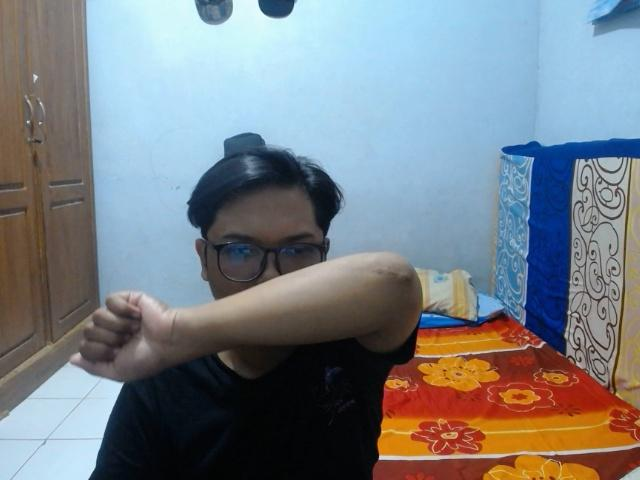Grab: (62, 284, 176, 386)
